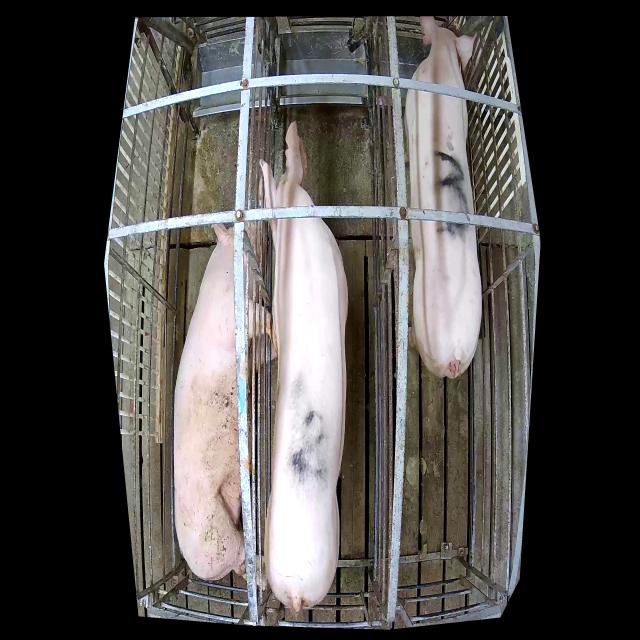pig: (258, 118, 348, 612), (174, 221, 277, 592), (404, 17, 482, 379)
